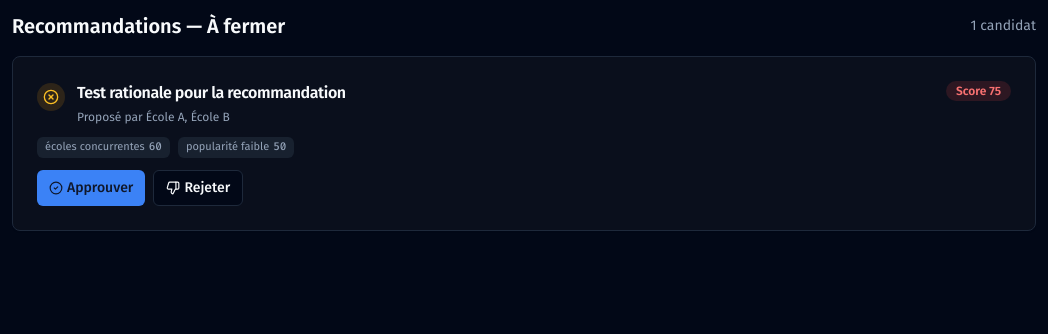
Test: GapRecommendationsList › shows error banner when approve fails
Expected: the heading "Test rationale pour la recommandation" is shown, [77,81,346,105]
What coordinates should you click on to do the following:
click the button "Approuver"
I would click on:
 (91, 188)
Its box is [37,170,145,206].
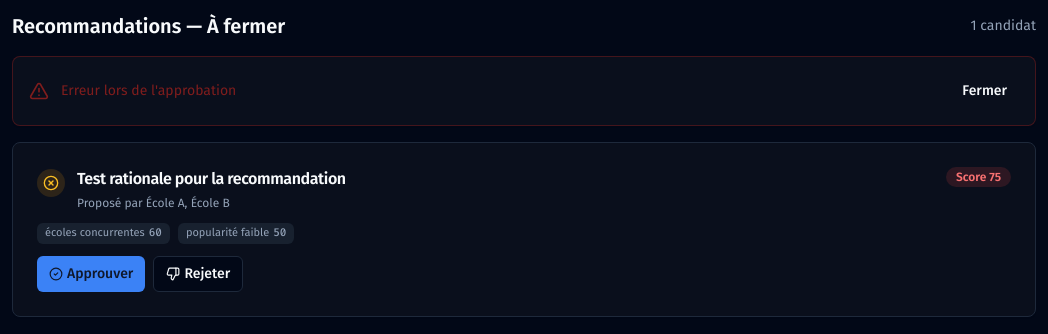
Expected: the text "Erreur lors de l'approbation" is shown, [61,81,236,101]
